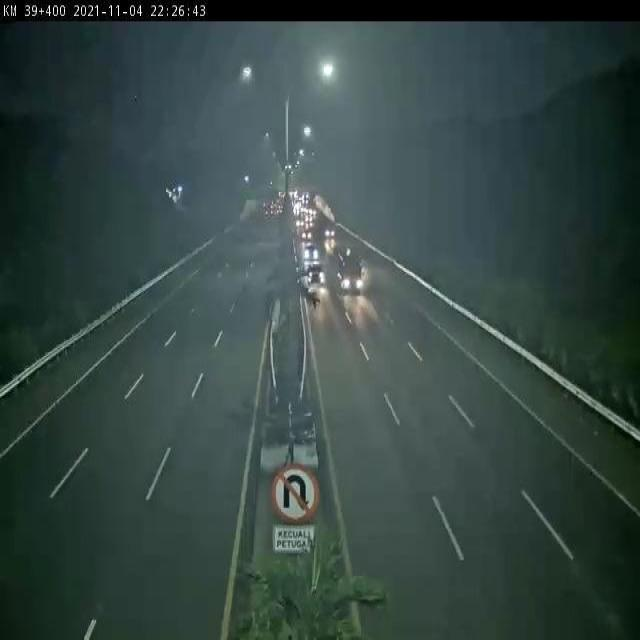Bus: (335, 251, 362, 295)
Car: (304, 268, 325, 286), (303, 245, 317, 262), (323, 226, 338, 240), (300, 227, 313, 242), (306, 215, 315, 224), (297, 217, 305, 227)
